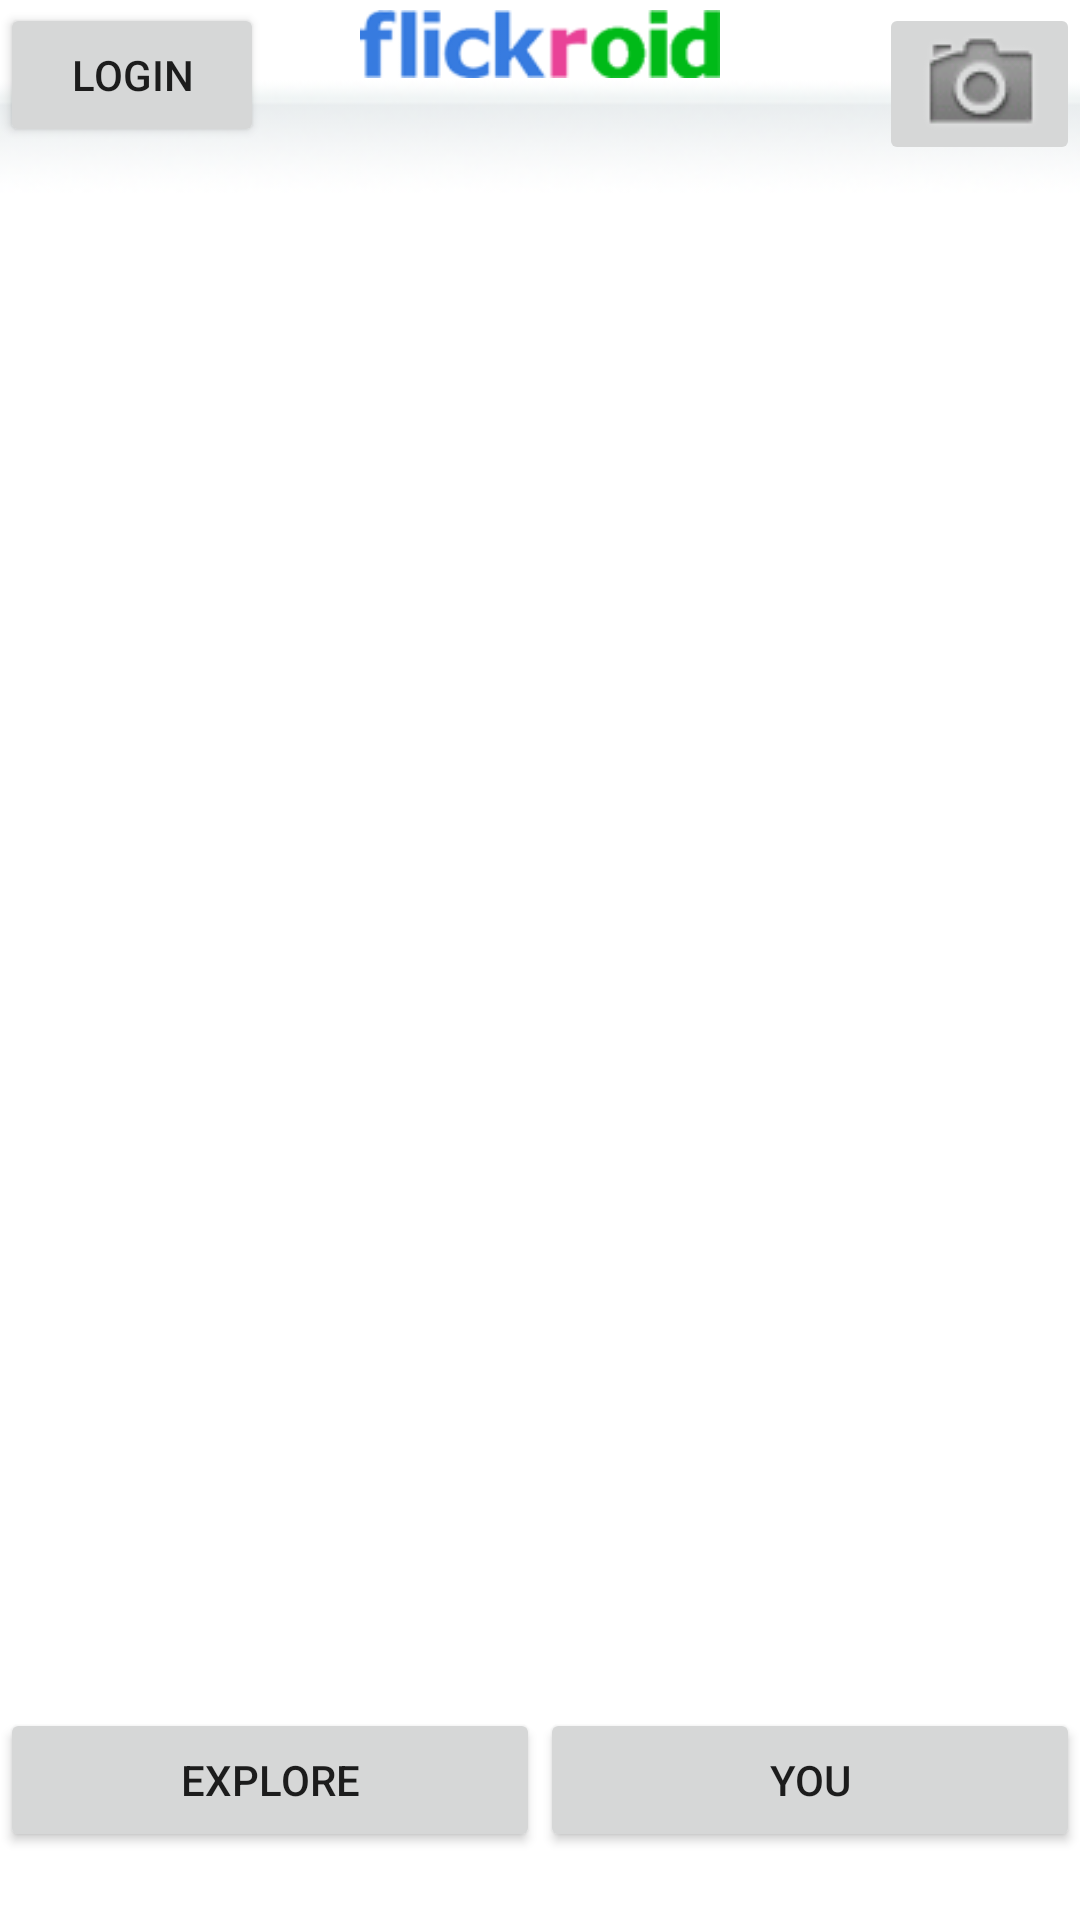

Icon bounding boxes for this 1080w x 1920h phone screenshot, format bbox=[x1, y1, x2, y2]:
camera: bbox=[891, 21, 1068, 147]
